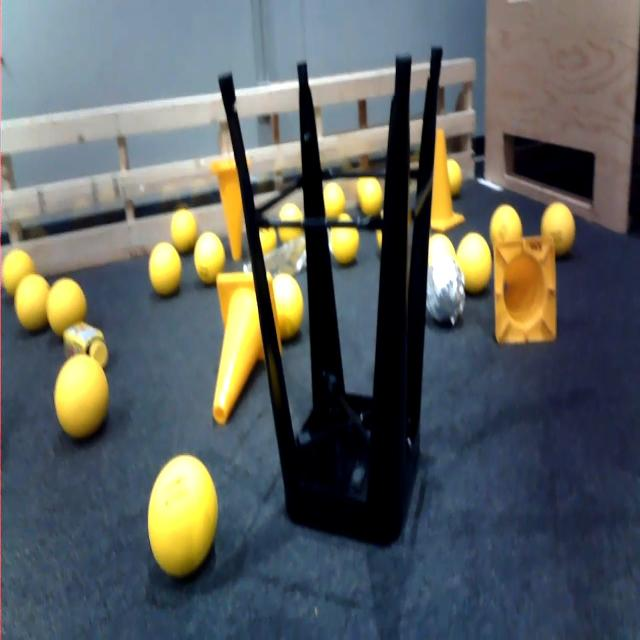fuel: (141, 446, 220, 590), (48, 353, 115, 440), (269, 270, 311, 344), (456, 226, 492, 301), (536, 196, 582, 254), (9, 273, 53, 333), (321, 209, 362, 271), (47, 277, 92, 333), (143, 240, 184, 299), (188, 221, 228, 278), (352, 160, 385, 217), (486, 198, 523, 246), (167, 196, 201, 248), (3, 243, 36, 293), (319, 167, 350, 213), (428, 226, 459, 271), (252, 211, 280, 256), (274, 200, 305, 233), (438, 154, 464, 188), (372, 217, 392, 254)
